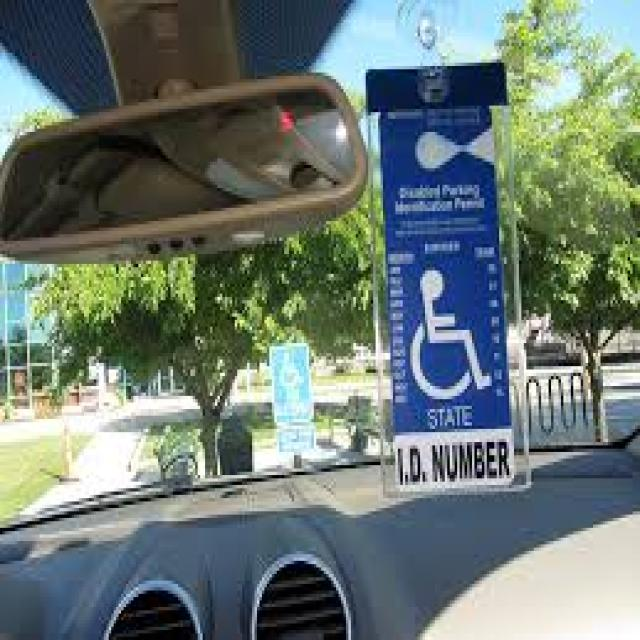car-handicap-placard: (410, 264, 490, 403)
